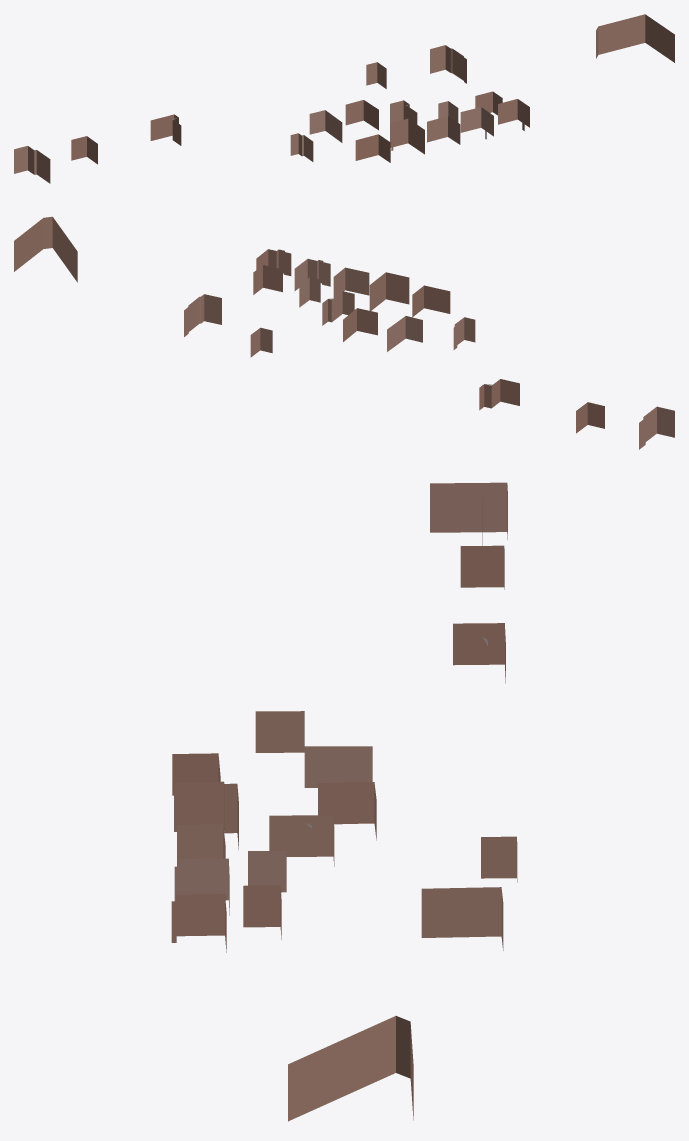
The model's file is c_1642_17831_buildings_residential.glb.
The picture shows the model from 3 angles, top to bottom: view 1: azimuth 30°, elevation 25°; view 2: azimuth 150°, elevation 25°; view 3: azimuth 270°, elevation 25°; orthographic projection. The views are drawn at different scales.
Parts seen in each view (by area): view 1: geometry_0; view 2: geometry_0; view 3: geometry_0.
Part boxes in pixels (x1=…): geometry_0: x1=14, y1=14, x2=674, y2=183; geometry_0: x1=14, y1=216, x2=674, y2=449; geometry_0: x1=171, y1=482, x2=517, y2=1121.
Size of the model in its own units: 245 by 11.08 by 60.26.
